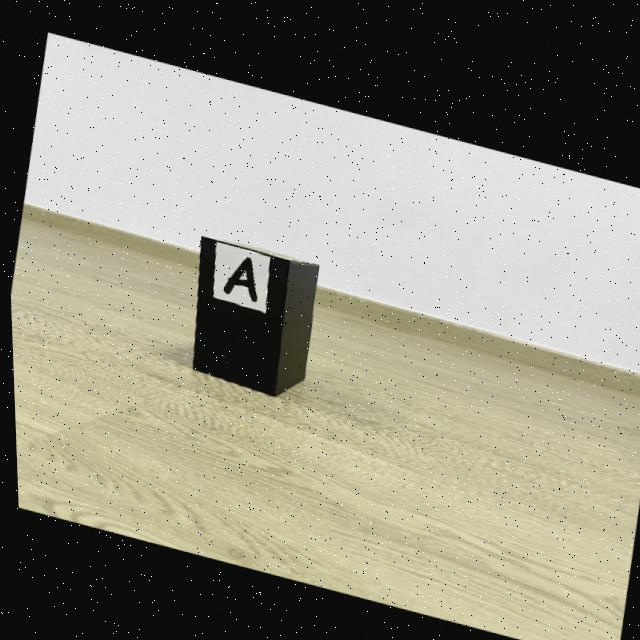A: (221, 252, 255, 297)
